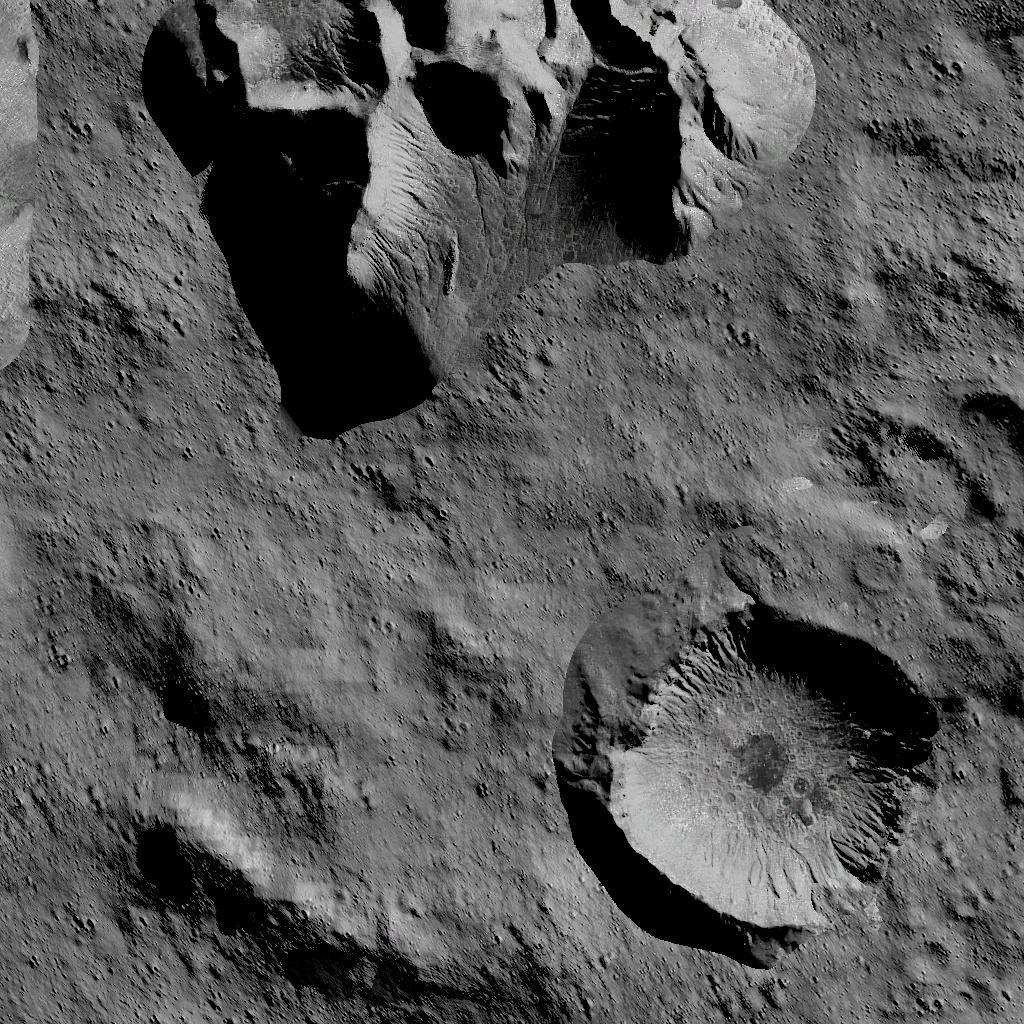Boulders: (151, 5, 815, 435), (133, 795, 588, 1024), (0, 0, 33, 373)
Crater: (604, 592, 936, 928)
Plan surface: (836, 0, 1024, 383), (0, 612, 121, 1024), (606, 940, 1024, 1024)
